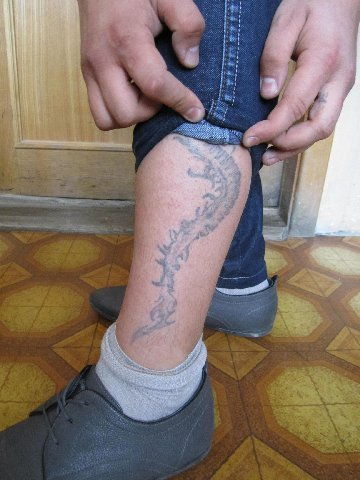tatu6_drakon: (116, 112, 255, 351)
